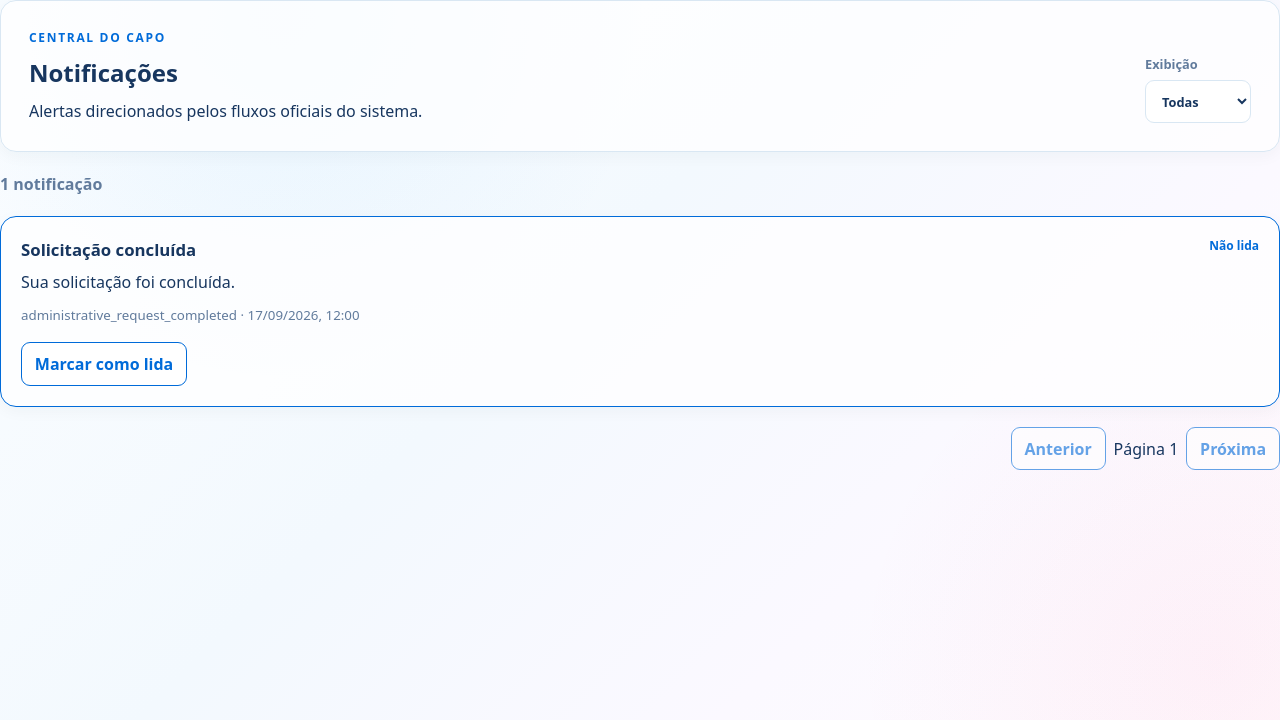
NotificationsPage › filtra não lidas e recarrega do backend após marcar como lida
Expected: the heading "Solicitação concluída" is shown, [21,237,196,262]
Select "Não lidas" in the dropdown named "Filtrar notificações" at (1198, 102), box [1145,80,1251,123]
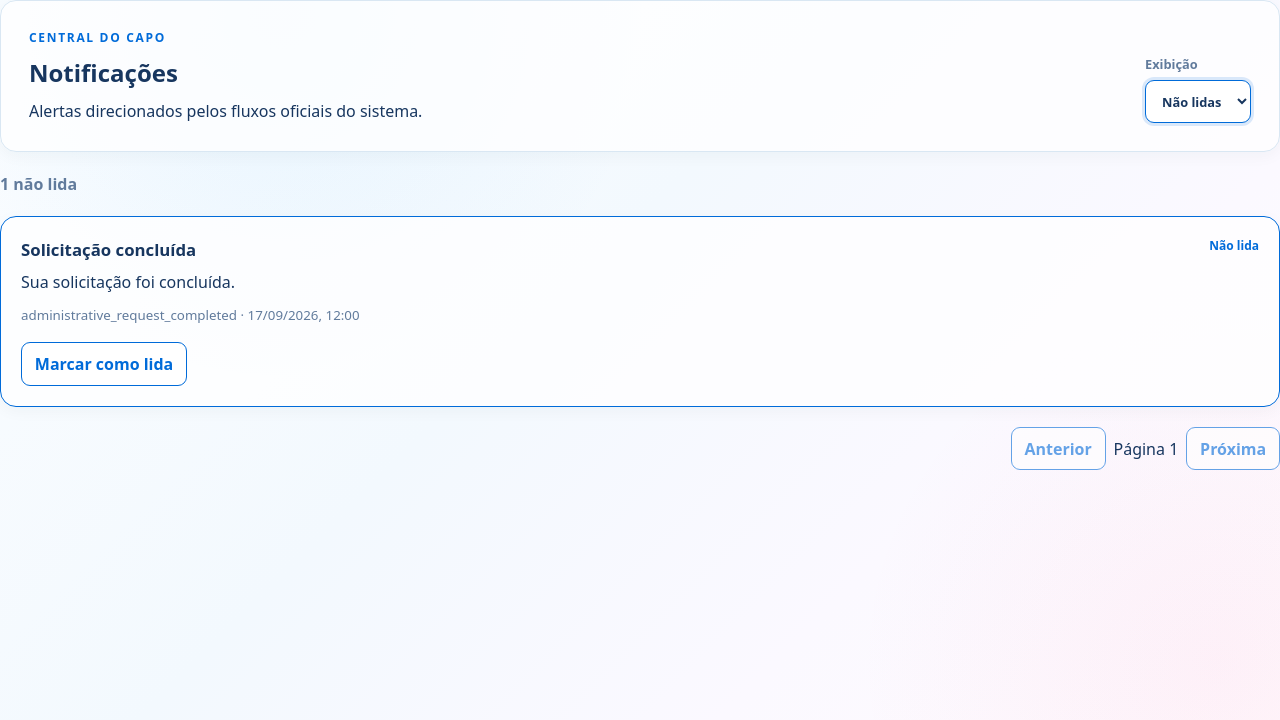
Click the button "Marcar como lida" at (104, 364), box [21,342,187,386]
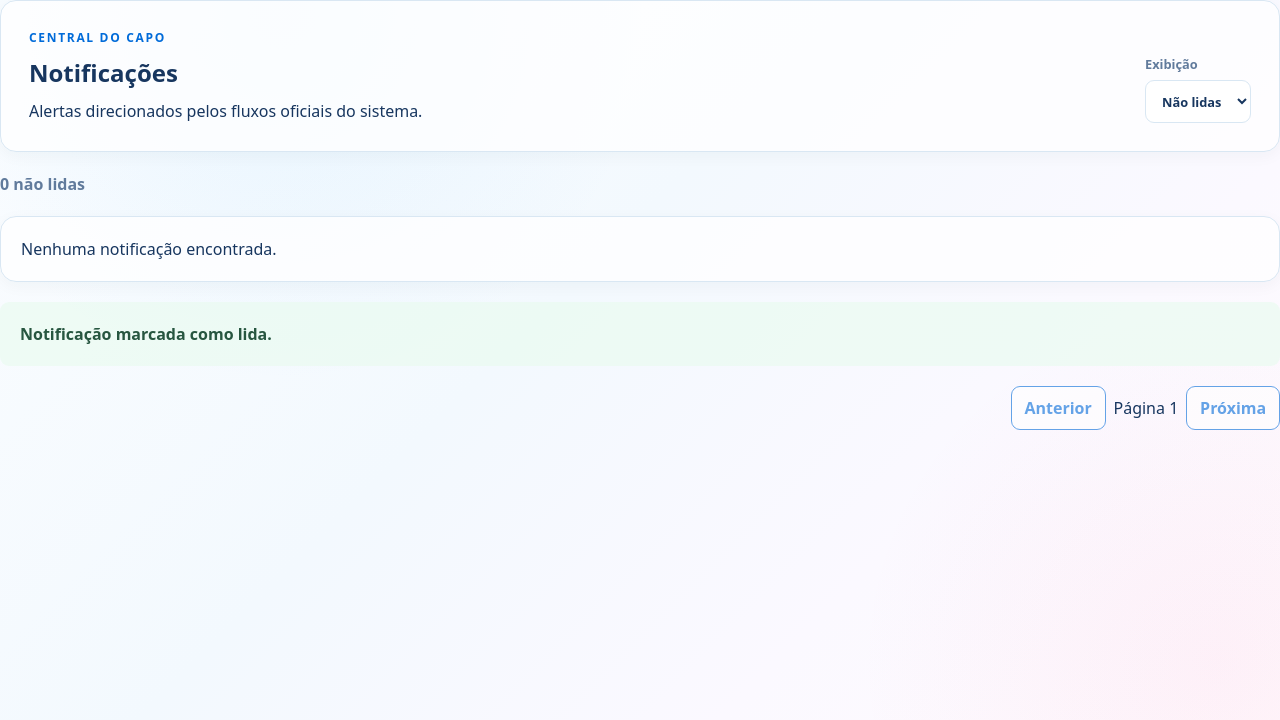
Result: the text "Nenhuma notificação encontrada." is shown at [0,216,1279,282]
